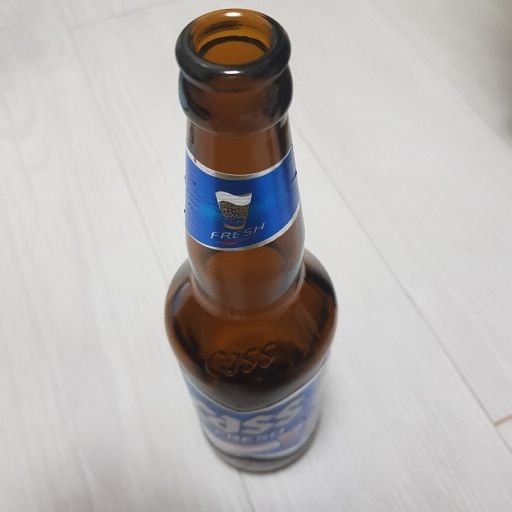Glass_1: (158, 7, 344, 480)
